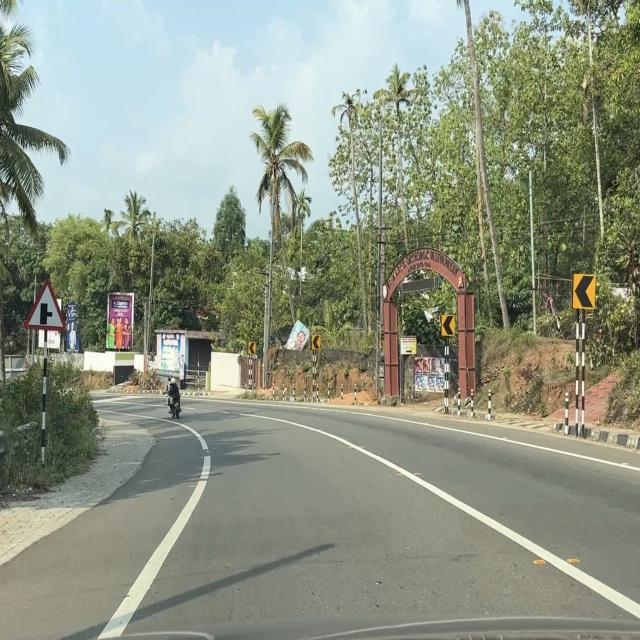SIDE_ROAD_RIGHT: (22, 278, 66, 332)
TURN_LEFT: (572, 274, 596, 310), (442, 314, 456, 336), (312, 335, 321, 350), (248, 342, 256, 354)
